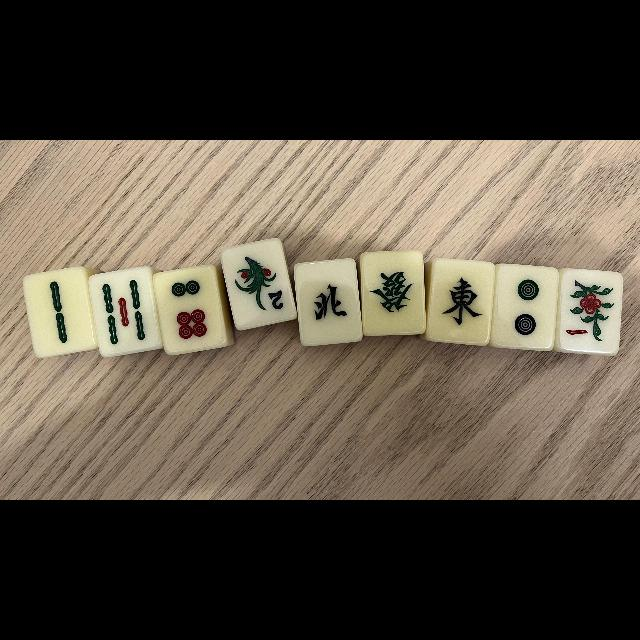b2: (26, 271, 92, 351)
b5: (95, 272, 155, 352)
d2: (496, 266, 554, 348)
d6: (160, 270, 220, 348)
dg: (364, 252, 420, 334)
f2-s: (226, 244, 292, 324)
s1-s: (561, 270, 619, 350)
we: (432, 262, 488, 341)
wn: (300, 261, 358, 341)
